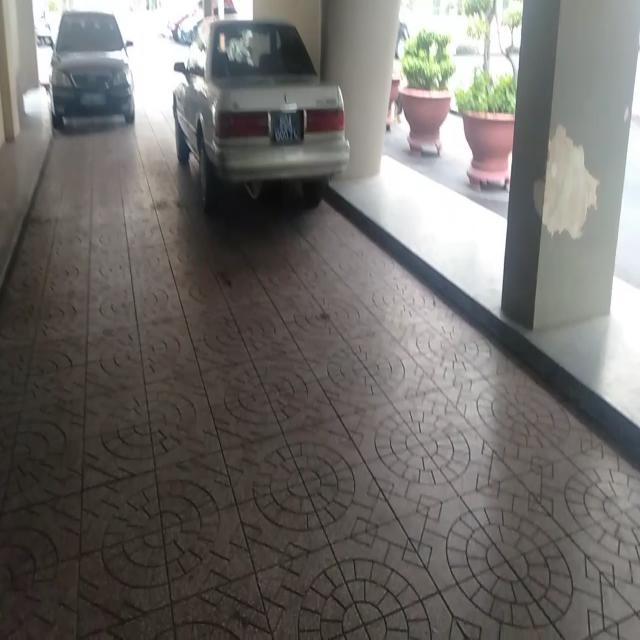bien_xanh: (267, 104, 302, 146)
